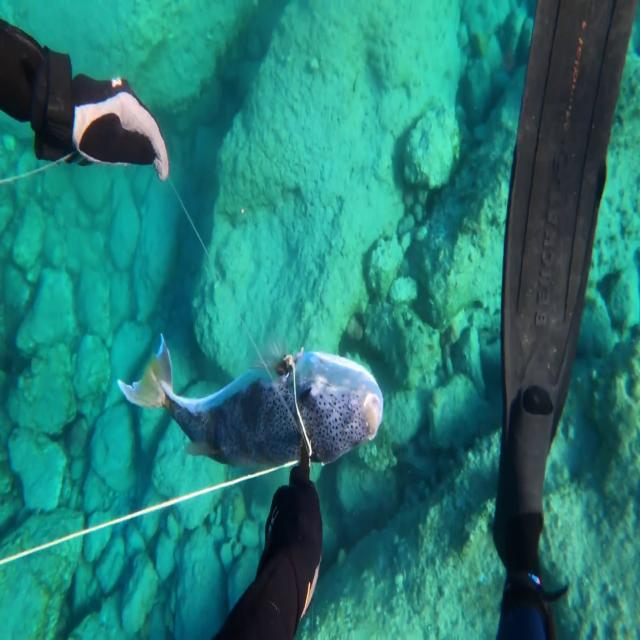Balon Baligi: (117, 334, 384, 466)
